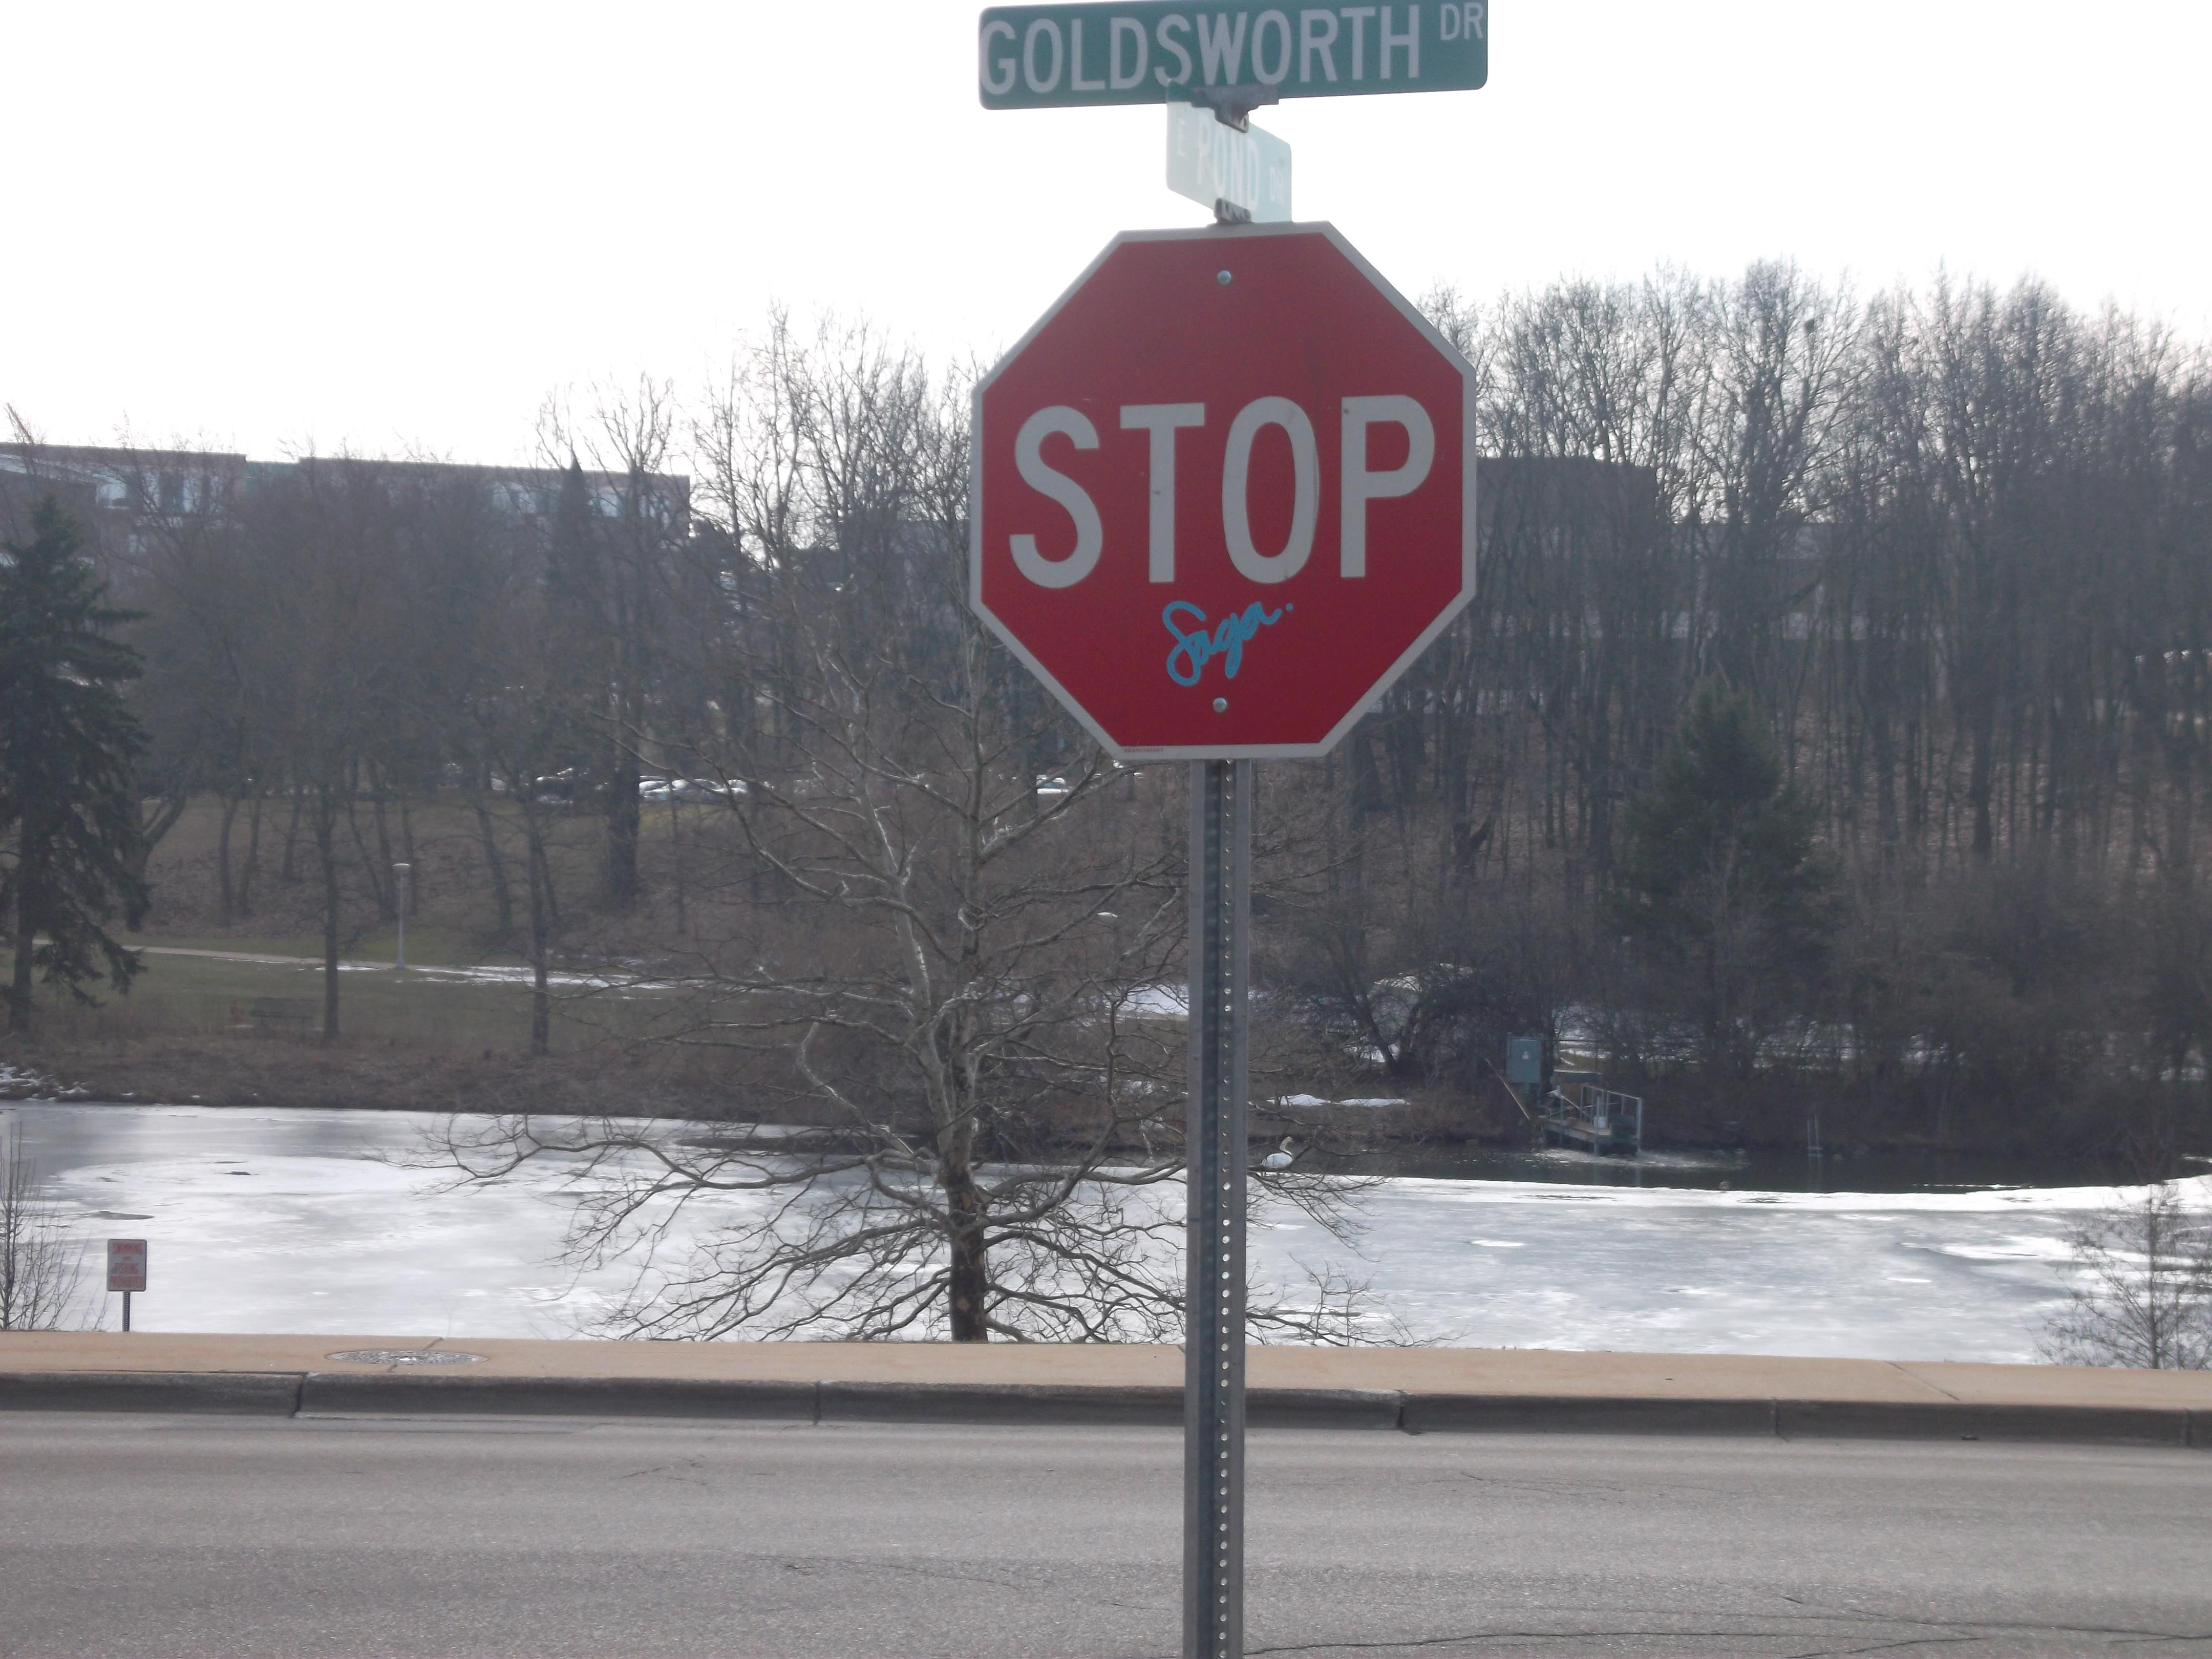stop: (932, 206, 1512, 784)
